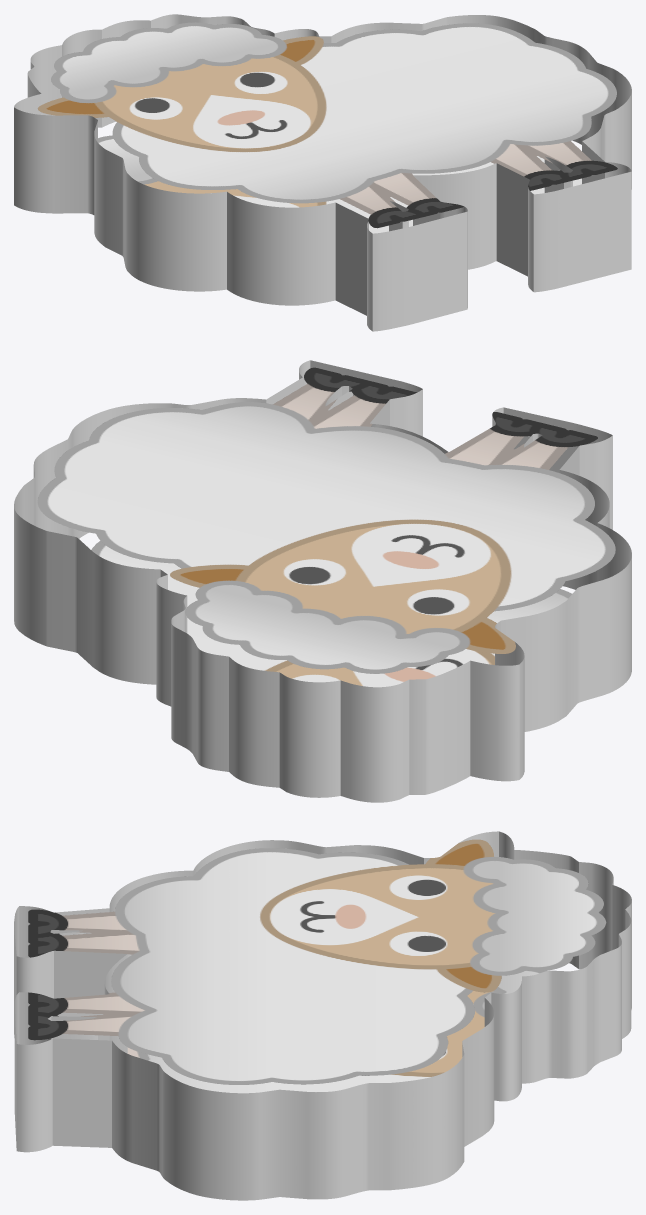
File: sheep.dae
The picture shows the model from 3 angles, top to bottom: view 1: azimuth 30°, elevation 25°; view 2: azimuth 150°, elevation 25°; view 3: azimuth 270°, elevation 25°; orthographic projection. The views are drawn at different scales.
Visible parts, largest first — view 1: Ebene_1; view 2: Ebene_1; view 3: Ebene_1.
Part boxes in pixels (x1,y1,x2,y2): Ebene_1: (14,14,631,331); Ebene_1: (14,360,631,802); Ebene_1: (14,831,631,1200).
Size of the model in its own units: 16.95 by 16.91 by 3.24.
3 materials, 3 textured.
